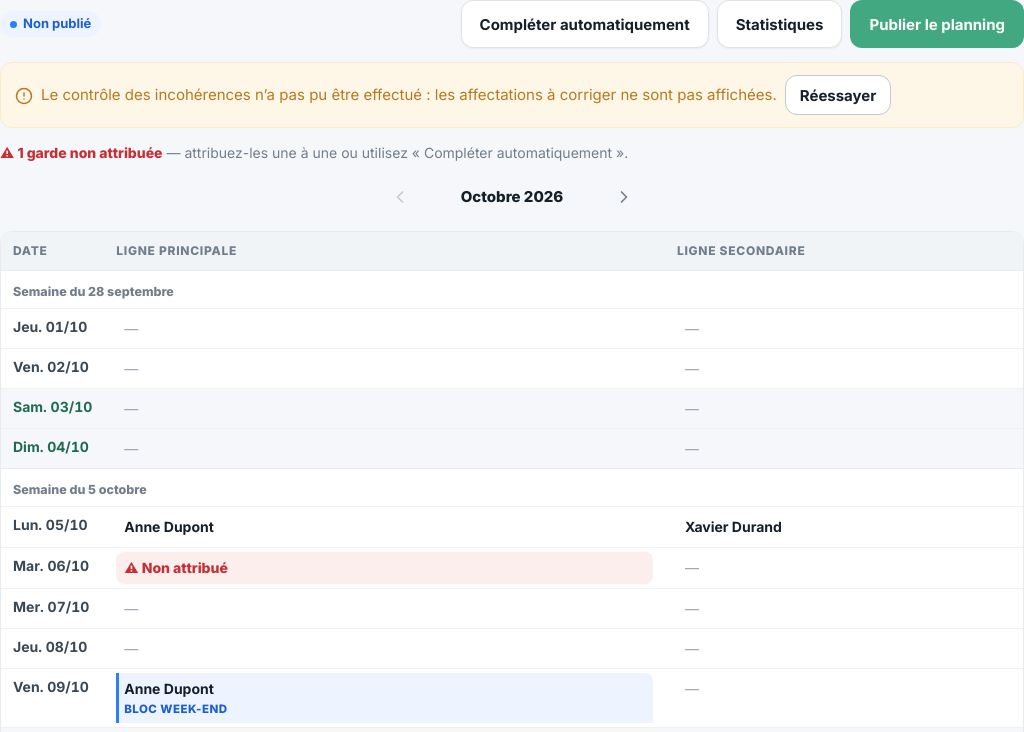
PlanningCalendar › says so when a completion cannot be requested because a job is already running
Step 1. Click the button "Compléter automatiquement" → (585, 24), box [460, 0, 709, 48]
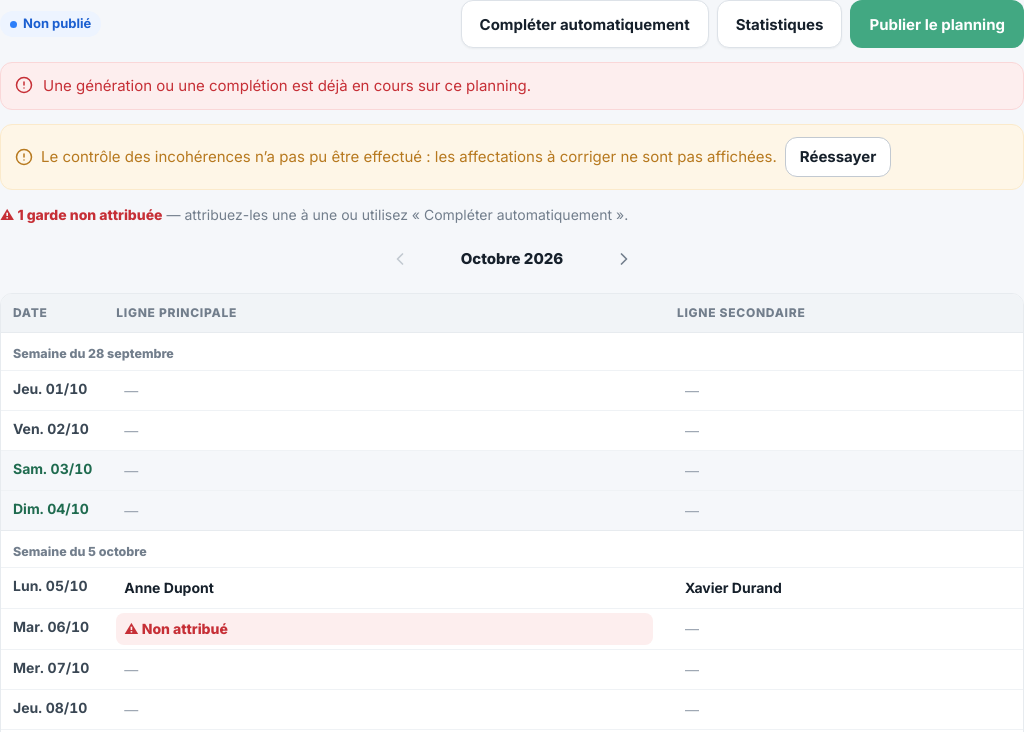
Result: the text "Une génération ou une complétion est déjà en cours sur ce planning." is shown at [0, 62, 1023, 110]
